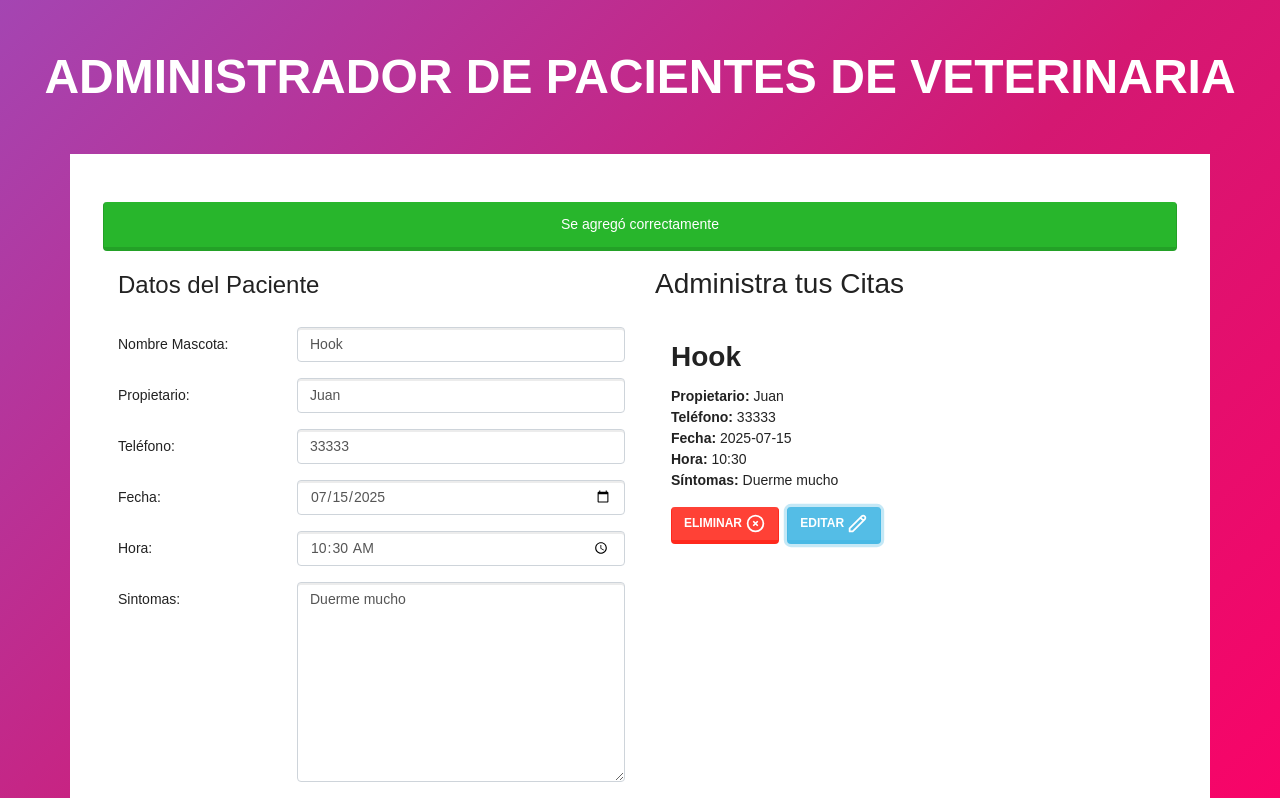
it: Agregar una nueva cita, mostrarla y eliminarla › Eliminar la cita
// Eliminar cita
Click the button with test id "btn-eliminar-cita": (725, 526) [671,507,779,544]
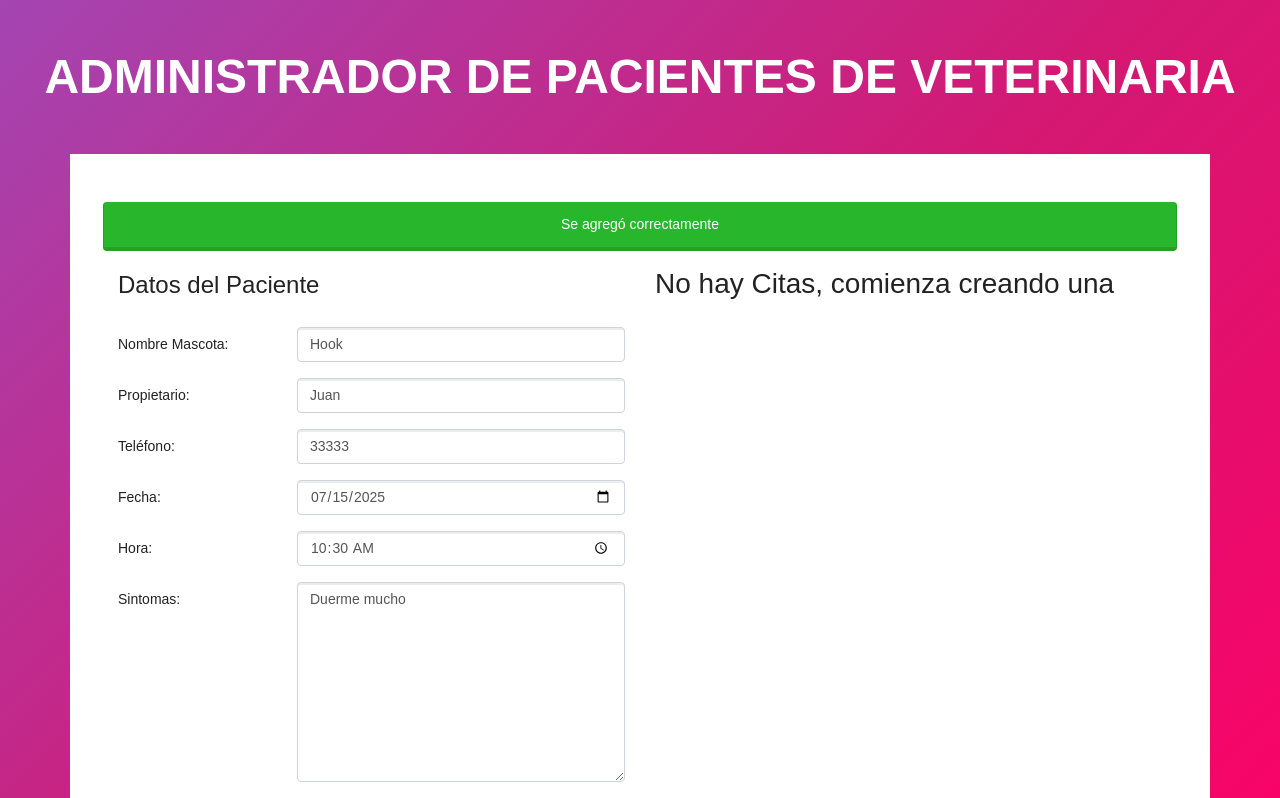
Result: the heading with test id "citas-heading" reads "No hay Citas, comienza creando una" at [655,267,1162,301]
